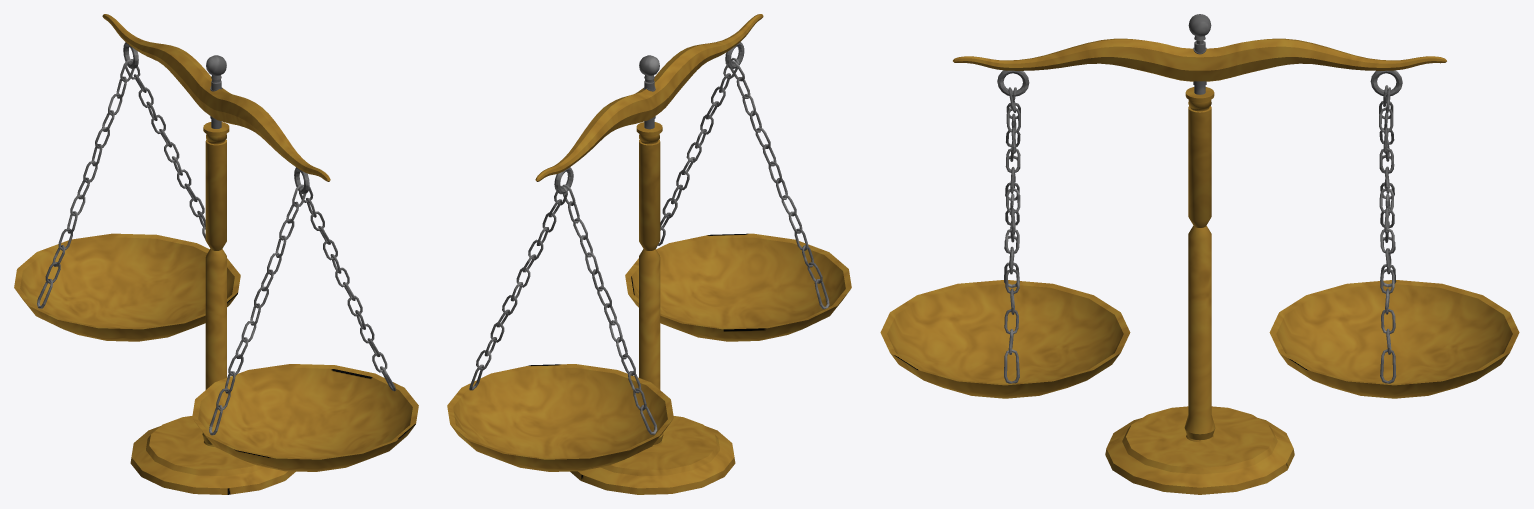
File: justice_scale.glb
The picture shows the model from 3 angles, left to right: view 1: azimuth 30°, elevation 25°; view 2: azimuth 150°, elevation 25°; view 3: azimuth 270°, elevation 25°; orthographic projection. The views are drawn at different scales.
Parts seen in each view (by area): view 1: LeftScale_3, RightScale_7, Scale_9, Beam_0, Chains.002_1, Chains.001_6, Chains.003_2, Chains_5; view 2: RightScale_7, LeftScale_3, Scale_9, Beam_0, Chains.002_1, Chains.001_6, Chains_5, Chains.003_2; view 3: LeftScale_3, RightScale_7, Scale_9, Beam_0, Chains.003_2, Chains_5, Chains.001_6, Chains.002_1.
Boxes of the visible parts, box(x1,y1,x2,y2) form: LeftScale_3: box(192, 364, 418, 471); RightScale_7: box(14, 233, 240, 341); Scale_9: box(130, 55, 295, 494); Beam_0: box(102, 14, 330, 181); Chains.002_1: box(209, 184, 306, 435); Chains.001_6: box(37, 59, 134, 308); Chains.003_2: box(299, 186, 395, 391); Chains_5: box(125, 59, 205, 239); RightScale_7: box(447, 364, 673, 471); LeftScale_3: box(625, 233, 851, 341); Scale_9: box(570, 55, 735, 494); Beam_0: box(535, 14, 763, 181); Chains.002_1: box(730, 61, 829, 309); Chains.001_6: box(562, 184, 657, 434); Chains_5: box(469, 185, 567, 390); Chains.003_2: box(655, 58, 739, 248); LeftScale_3: box(880, 280, 1130, 398); RightScale_7: box(1269, 280, 1519, 398); Scale_9: box(1105, 14, 1294, 494); Beam_0: box(953, 38, 1446, 81); Chains.003_2: box(1004, 87, 1020, 383); Chains_5: box(1379, 87, 1396, 383); Chains.001_6: box(1379, 85, 1396, 287); Chains.002_1: box(1004, 87, 1020, 287).
Bounding box in the file's own units: 0.6247 × 1.21 × 1.6.
1 material, 1 textured.
